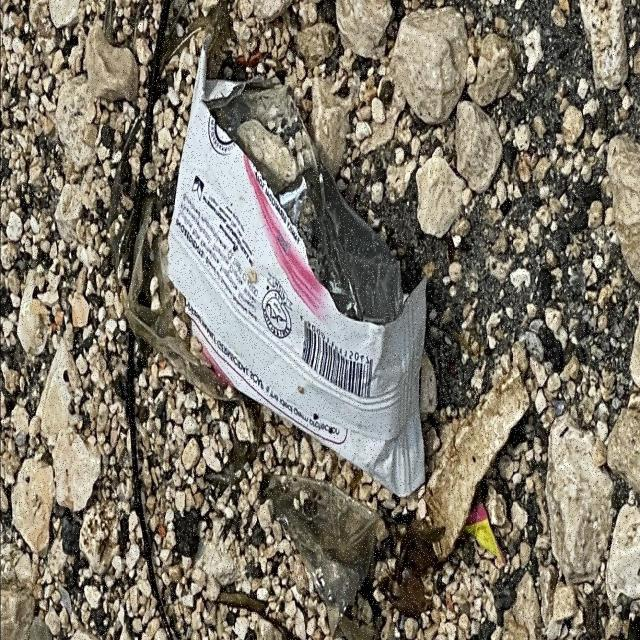plastic_waste: (167, 43, 429, 502)
